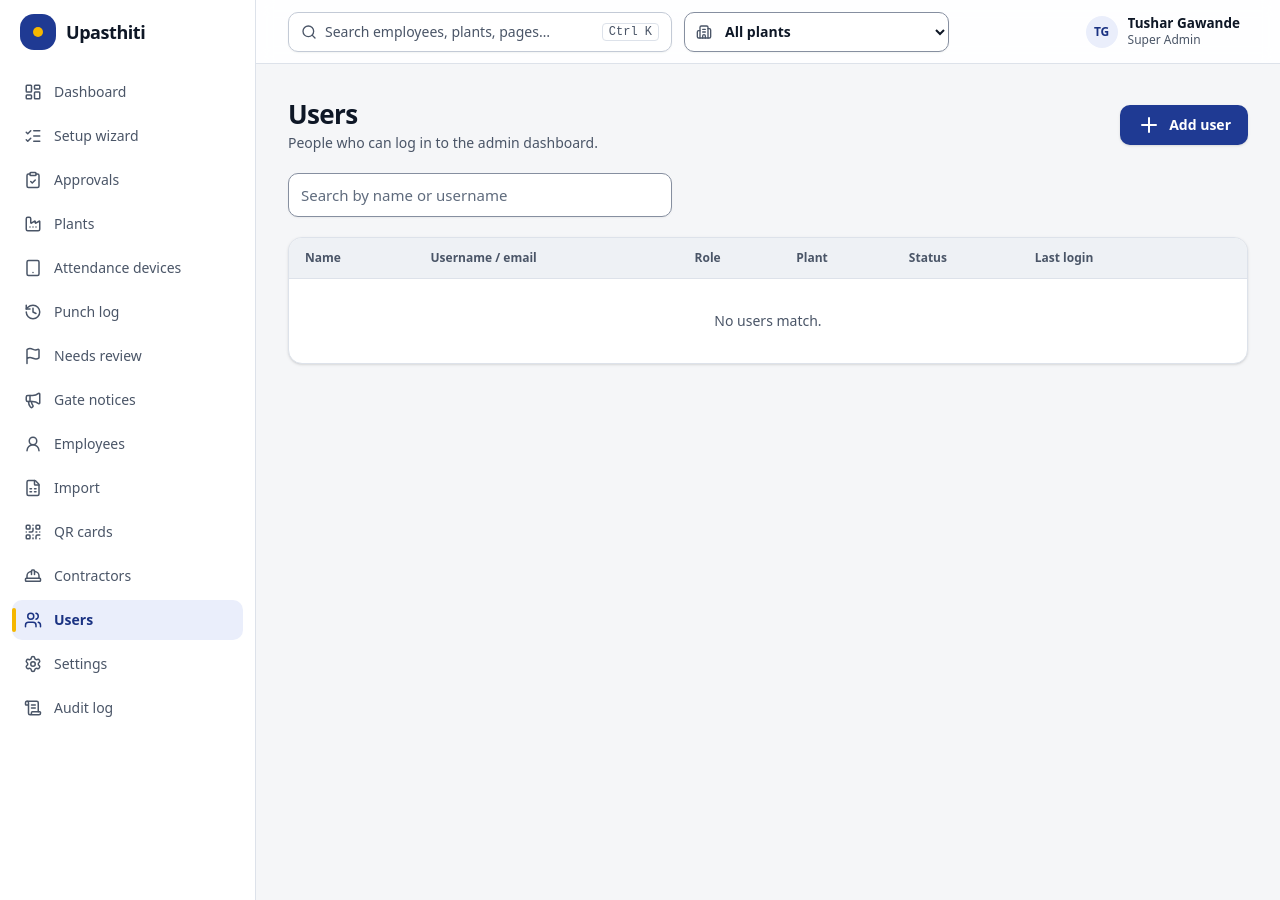
it: users page › asks for a plant when the role is Plant Head
Click the button "Add user" at (1184,125), box [1120,105,1248,145]
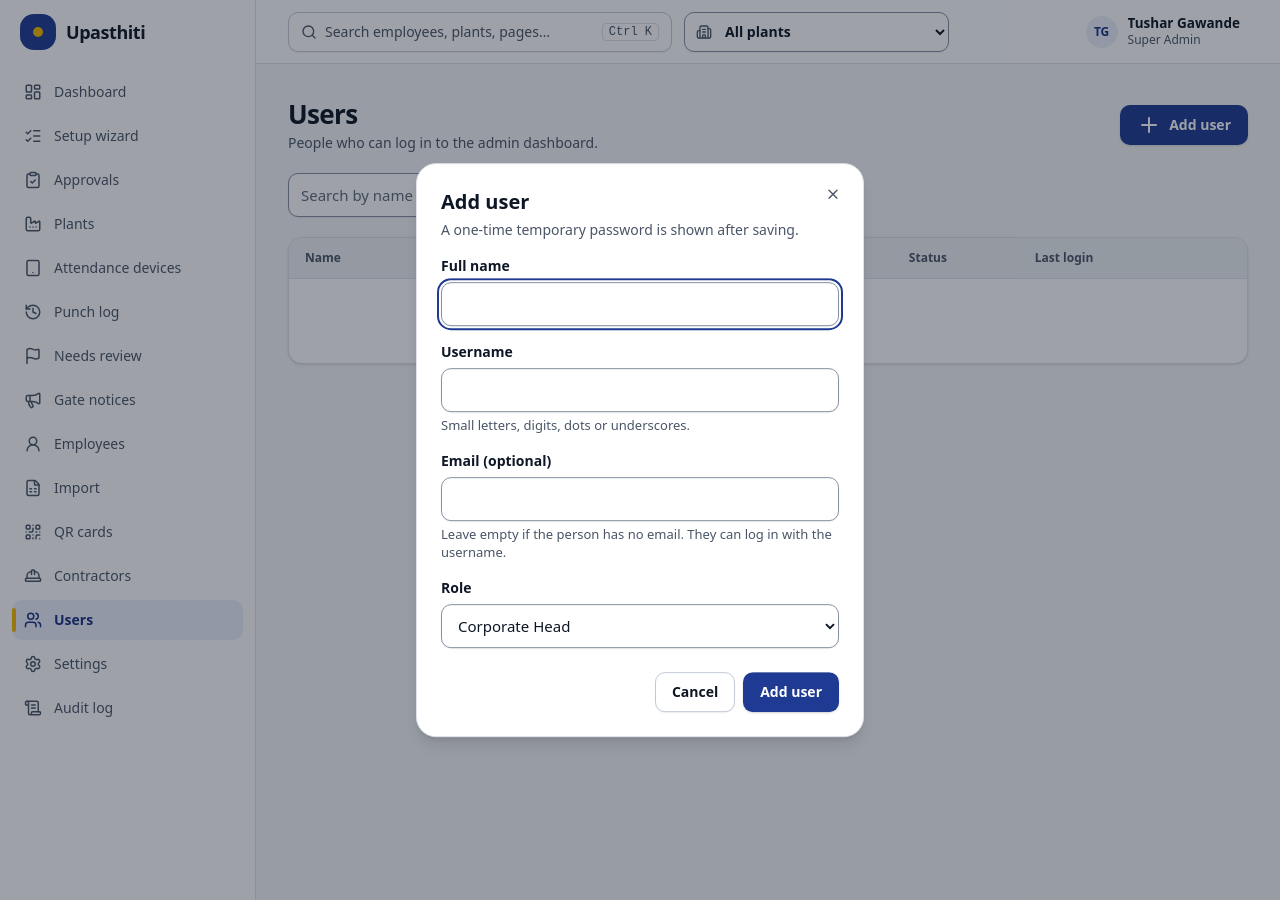
Type "K Head" into the field labelled "Full name" at (640,304), box [441,282,839,326]
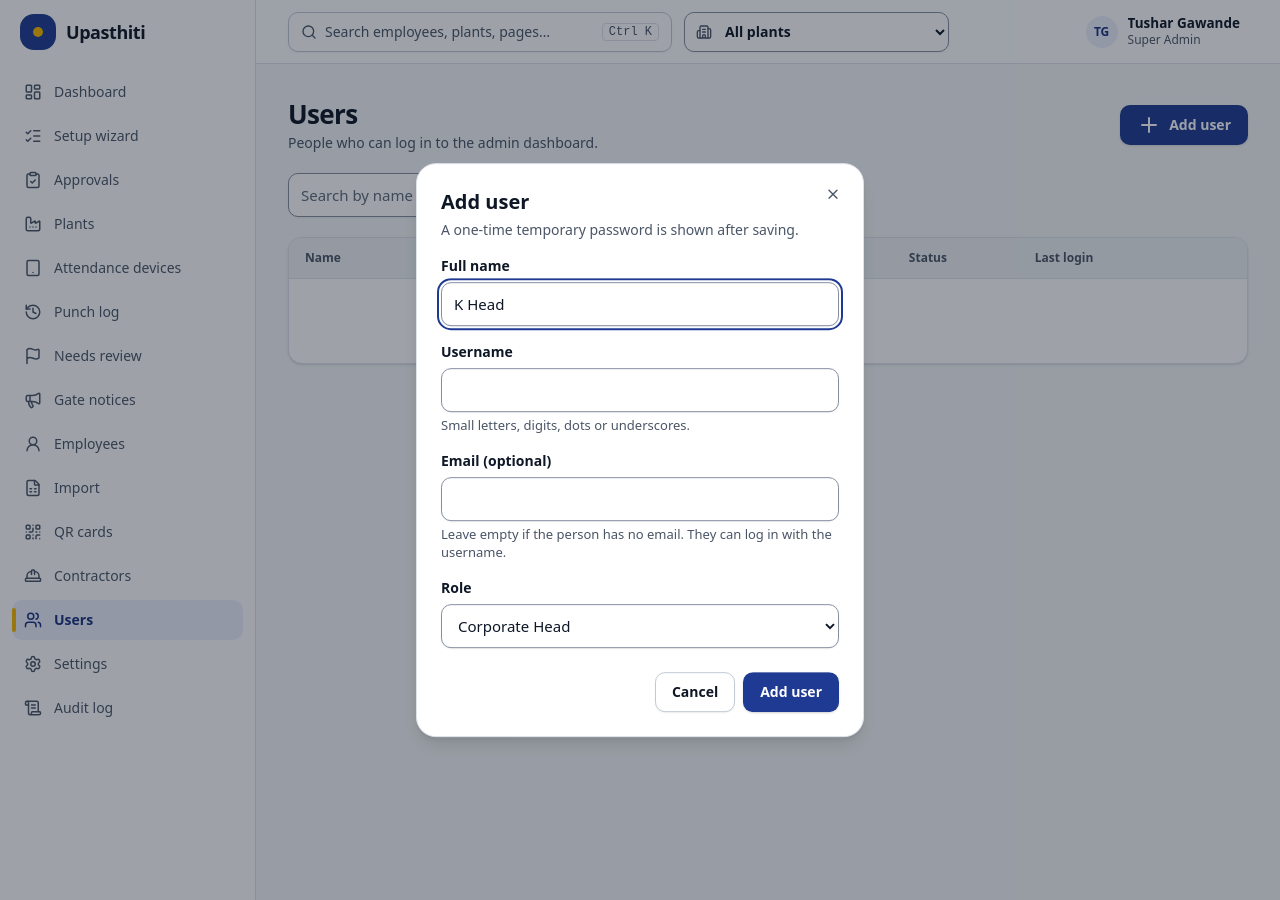
Type "k.head" into the field labelled "Username" at (640,390), box [441,368,839,412]
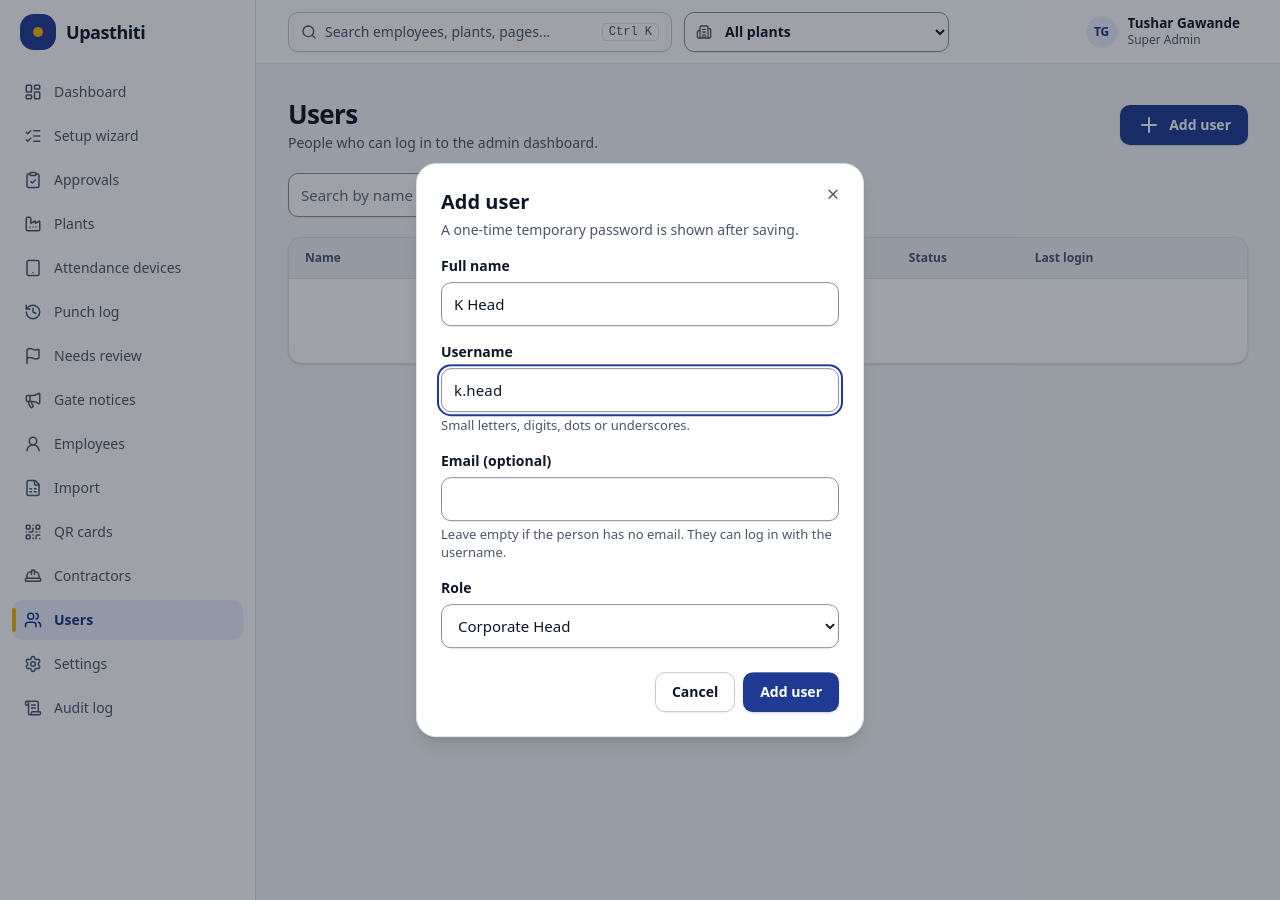
Select "Plant Head" in the dropdown labelled "Role" at (640,626), box [441,604,839,648]
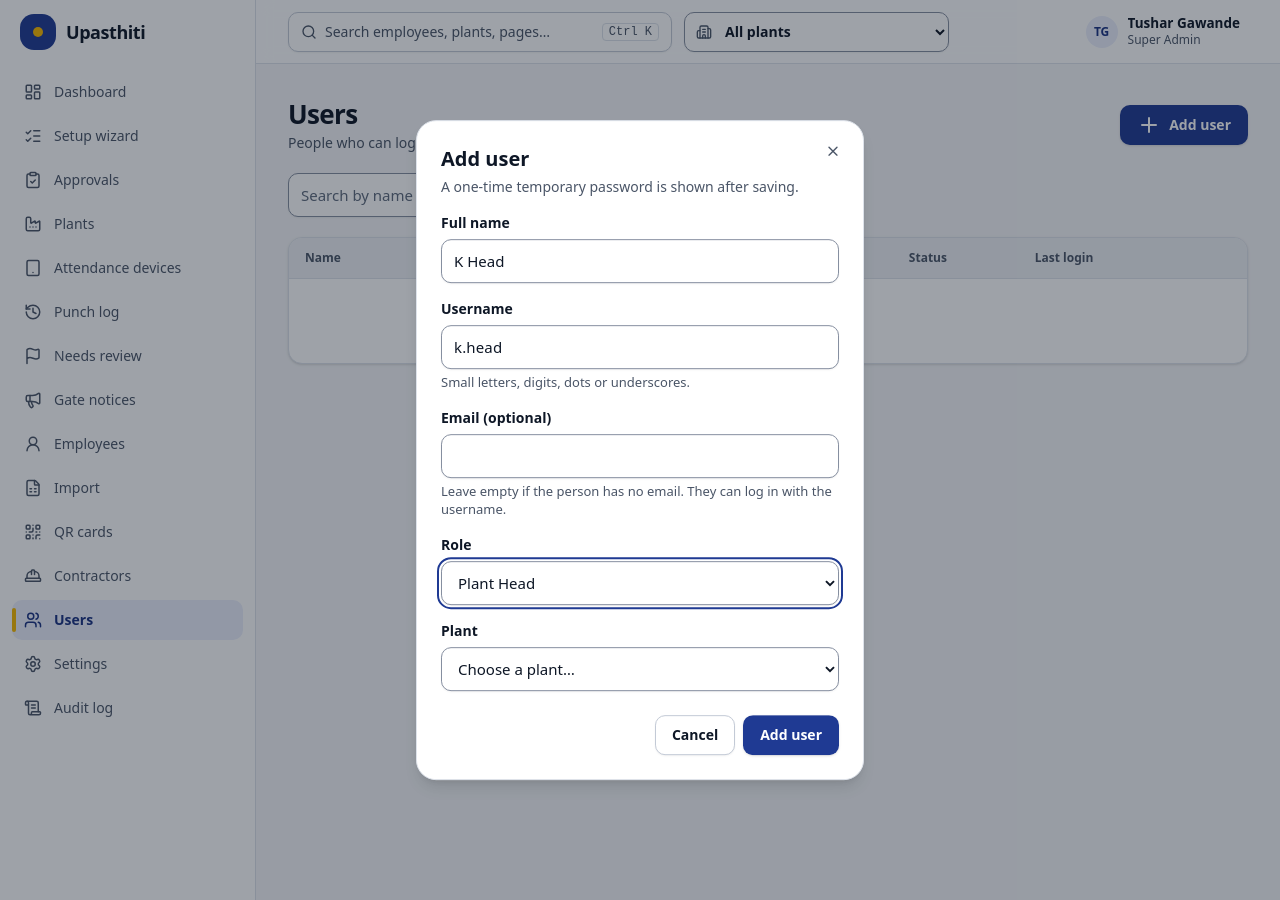
Click the button "Add user" at (791,735), box [743,715,839,755]
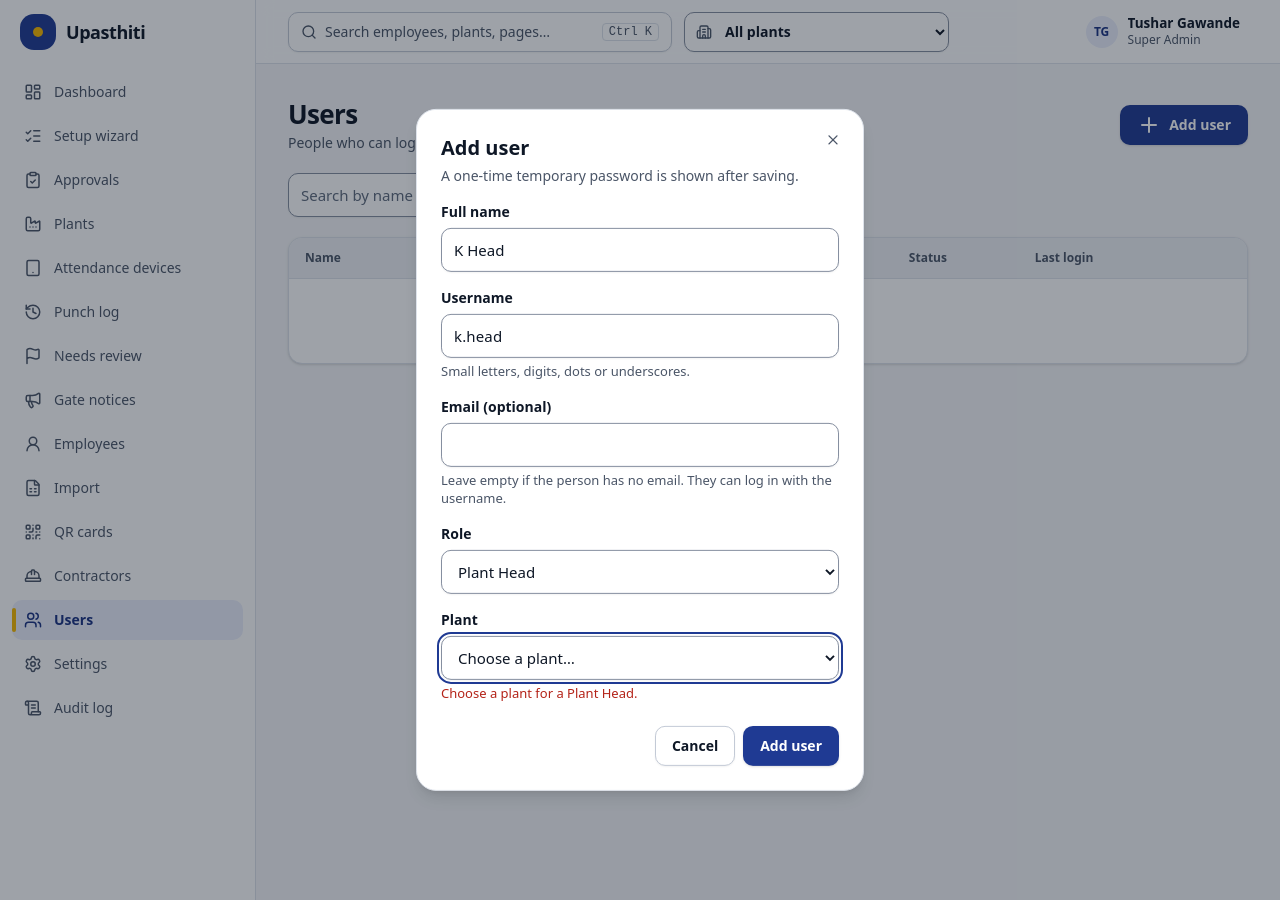
Check: the text "Choose a plant for a Plant Head." is shown, box [441,684,638,702]
